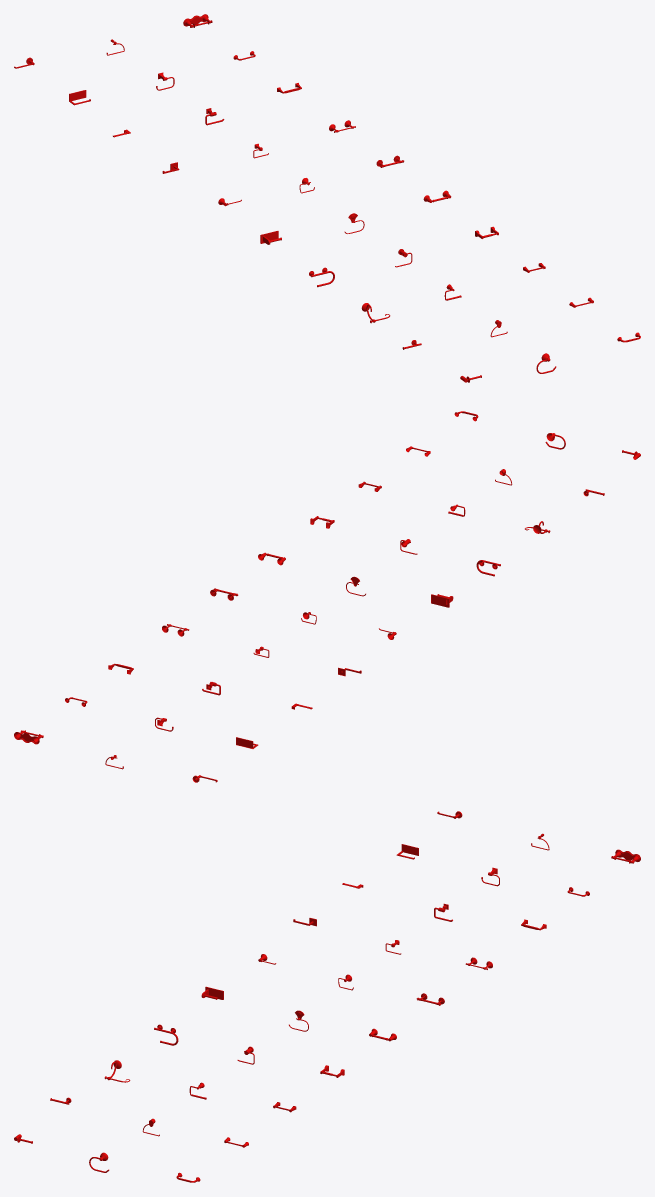
The model's file is toilet_paper_hangers_grp.fbx.
3 views of the same model, one above another, from view 1: azimuth 30°, elevation 25°; view 2: azimuth 150°, elevation 25°; view 3: azimuth 330°, elevation 25° (orthographic).
Bounding box in the file's own units: 237 × 23.55 × 911.
